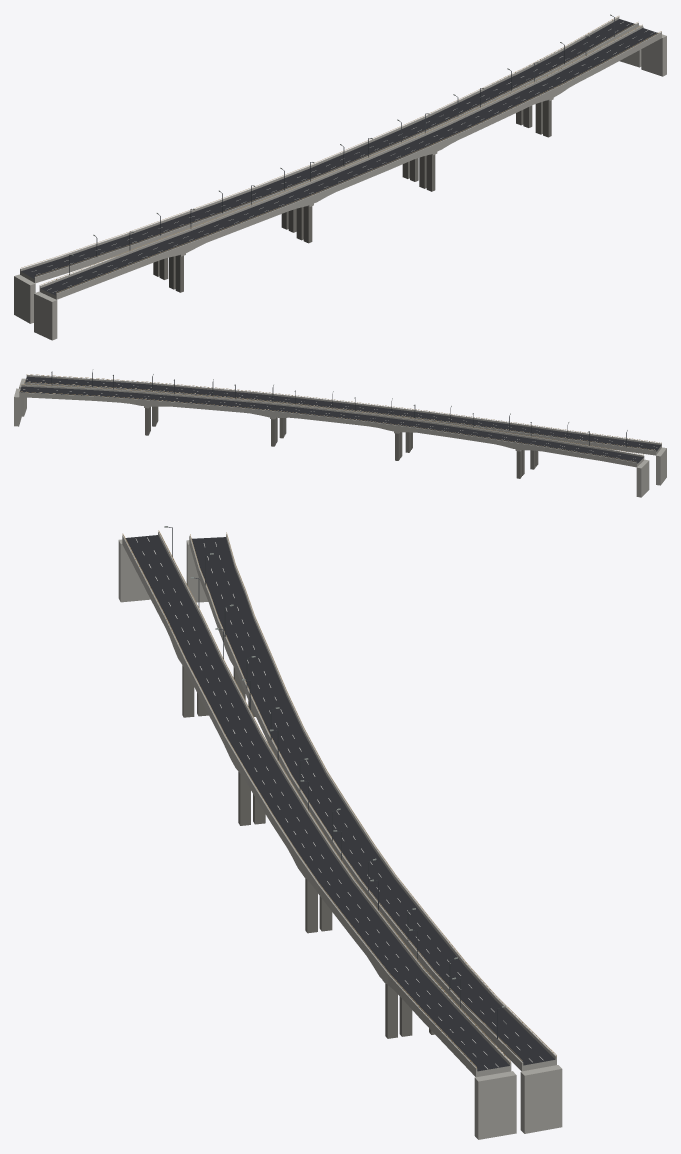
The model's file is br_r12_james_macdonald_lod1.gltf.
3 renders of one model, top to bottom at view 1: azimuth 30°, elevation 25°; view 2: azimuth 150°, elevation 25°; view 3: azimuth 270°, elevation 25°, orthographic. The views are drawn at different scales.
Visible parts, largest first — view 1: br_r12_james_macdonald_lod1; view 2: br_r12_james_macdonald_lod1; view 3: br_r12_james_macdonald_lod1.
Boxes of the visible parts, left/top/right/bottom form: br_r12_james_macdonald_lod1: left=14, top=14, right=666, bottom=340; br_r12_james_macdonald_lod1: left=14, top=369, right=666, bottom=497; br_r12_james_macdonald_lod1: left=118, top=526, right=562, bottom=1139.
Bounding box in the file's own units: 377 × 33.79 × 130.
